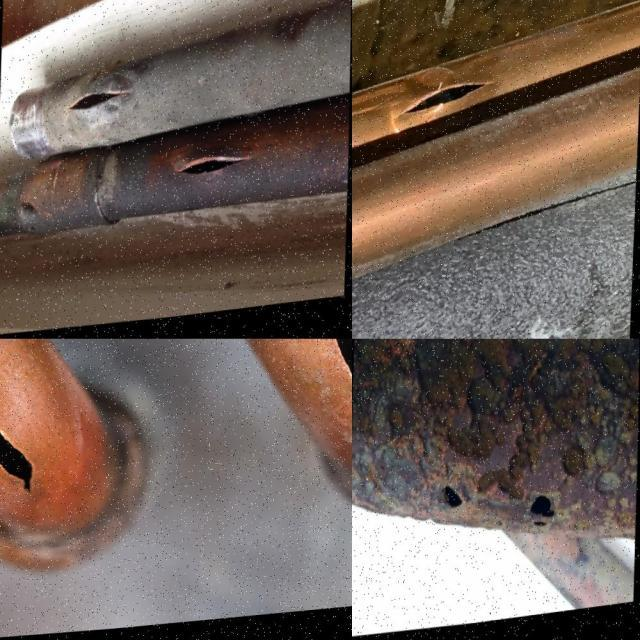hole: (437, 483, 467, 519), (530, 496, 560, 528), (532, 524, 552, 539)
rupture: (379, 67, 504, 128), (1, 417, 45, 506), (173, 153, 251, 182), (61, 87, 131, 114), (323, 338, 351, 404)
